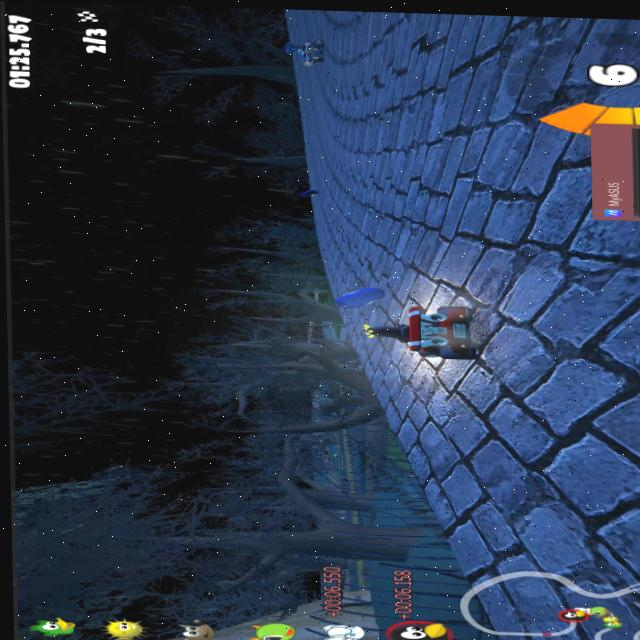enemy_kart: (288, 41, 329, 60)
nitro: (318, 281, 380, 310)
player_kart: (364, 302, 486, 360)
track: (500, 18, 640, 356), (373, 11, 511, 301), (449, 357, 605, 577), (309, 63, 387, 279), (507, 572, 640, 640), (409, 364, 440, 481), (332, 10, 373, 60), (288, 9, 327, 39), (381, 354, 397, 394)
